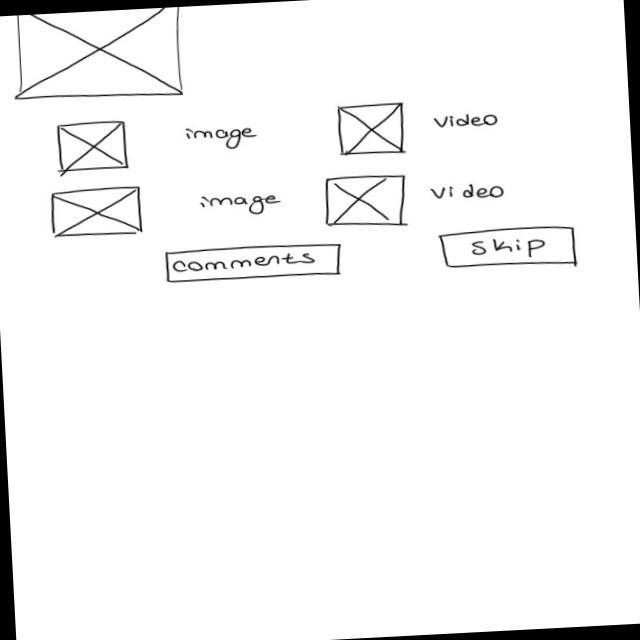button: (162, 241, 344, 286), (438, 223, 578, 271)
image: (8, 6, 188, 104), (48, 184, 145, 240), (324, 172, 409, 230), (55, 118, 131, 174), (335, 100, 407, 156)
label: (198, 190, 282, 219), (182, 122, 258, 152), (429, 180, 506, 202), (432, 110, 500, 132)
